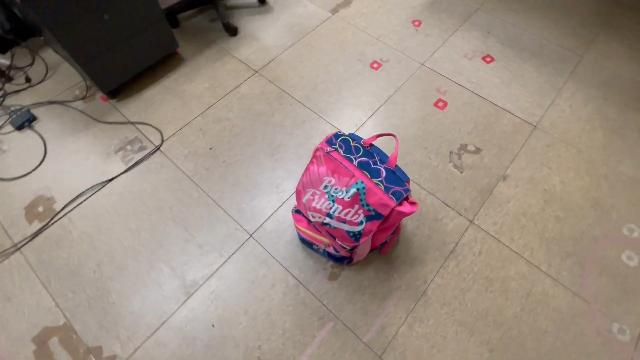Backpack: (286, 128, 422, 274)
